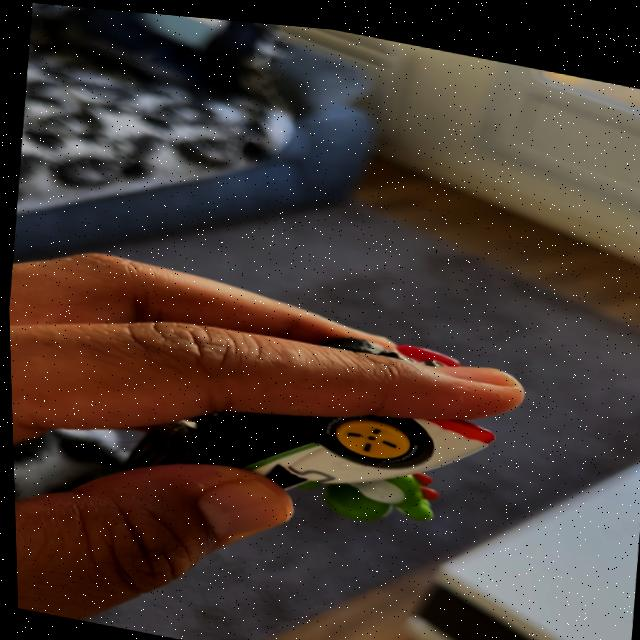yoshi: (219, 359, 463, 555)
